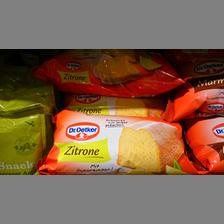Kuchen: (37, 108, 191, 170), (33, 50, 186, 98)
